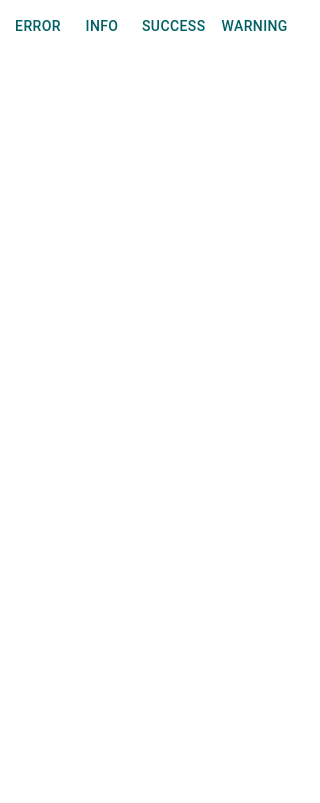
Test: Snackbar component › success
The image size is (320, 803).
What coordinates should you click on to do the following:
click the button "success"
I would click on:
 (174, 26)
Its box is [134,8,214,44].
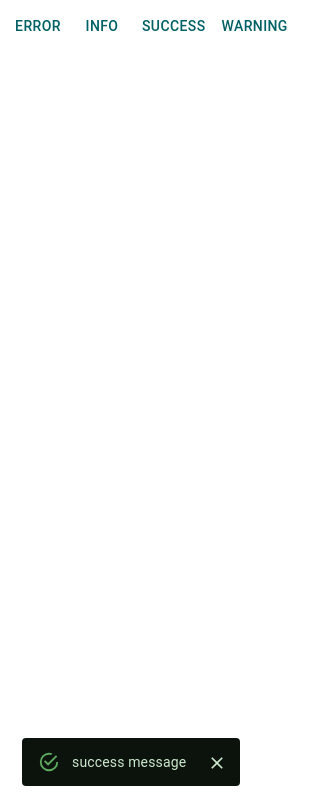
Expected: the icon with test id "SuccessOutlinedIcon" is shown, [38,751,60,773]
